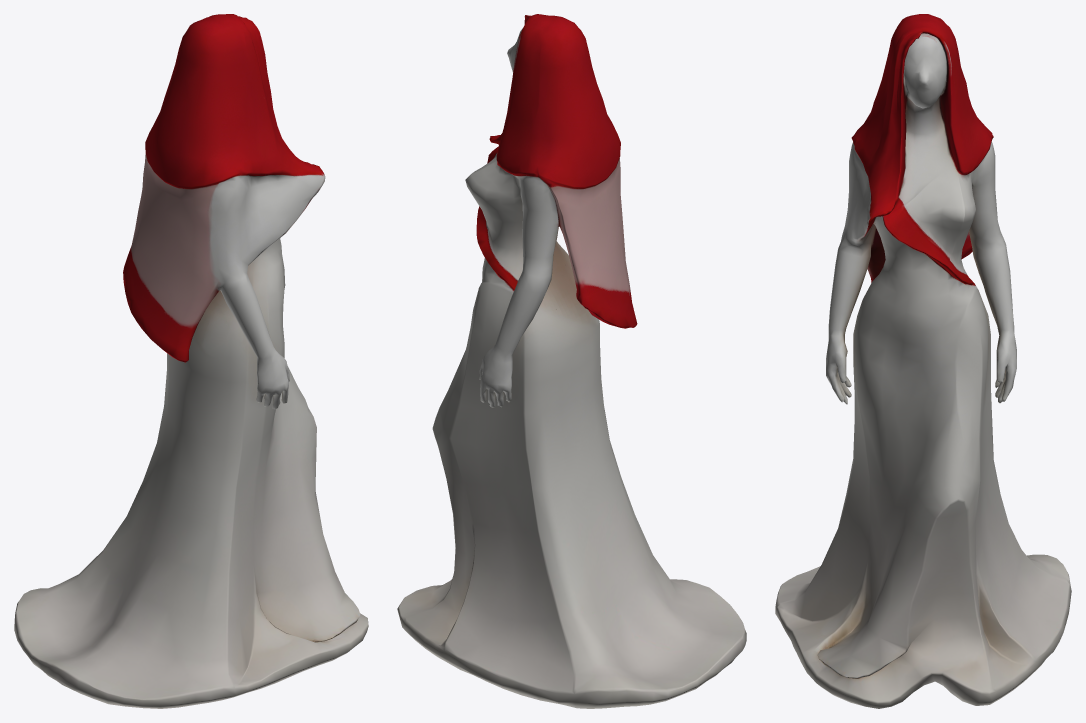
Rendered from min13tb.glb.
3 views of the same model, side by side, from view 1: azimuth 30°, elevation 25°; view 2: azimuth 150°, elevation 25°; view 3: azimuth 270°, elevation 25° (orthographic). The views are drawn at different scales.
Parts seen in each view (by area): view 1: tripo_node_53ba6889-4384-4563-a1e6-c3bc15da051f; view 2: tripo_node_53ba6889-4384-4563-a1e6-c3bc15da051f; view 3: tripo_node_53ba6889-4384-4563-a1e6-c3bc15da051f.
Part boxes in pixels (left/top/right/bottom): tripo_node_53ba6889-4384-4563-a1e6-c3bc15da051f: left=14, top=14, right=368, bottom=708; tripo_node_53ba6889-4384-4563-a1e6-c3bc15da051f: left=397, top=14, right=746, bottom=708; tripo_node_53ba6889-4384-4563-a1e6-c3bc15da051f: left=775, top=14, right=1071, bottom=708.
Bounding box in the file's own units: 0.502 × 0.998 × 0.4238.
Materials: 1 (1 with a texture image).
